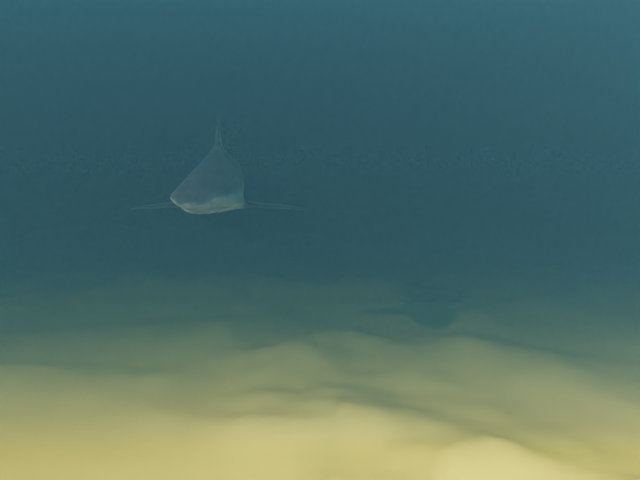Carribean Shark.001: (128, 116, 308, 214)
